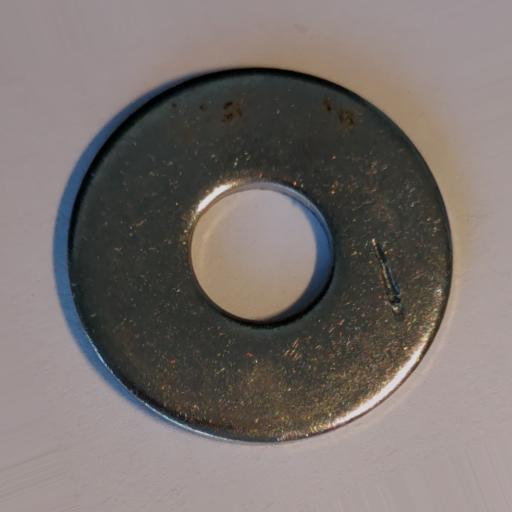scratch: (371, 238, 403, 316)
